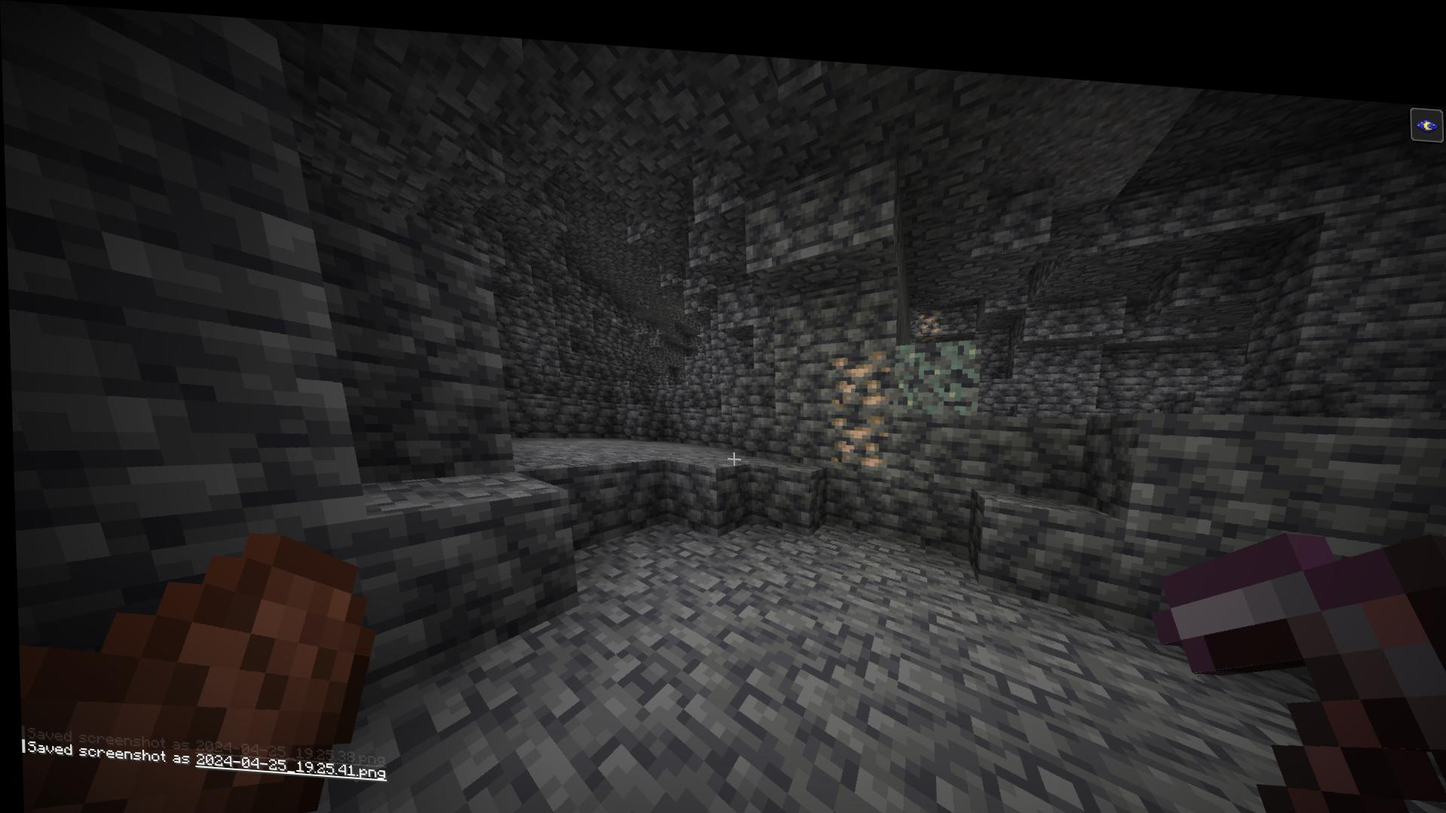iron ore: (826, 334, 891, 402), (821, 396, 888, 456), (907, 292, 941, 328), (608, 309, 616, 313)
